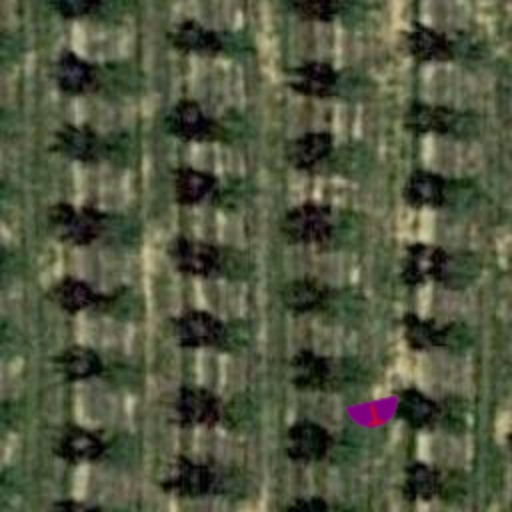semicircle: (342, 382, 406, 446)
